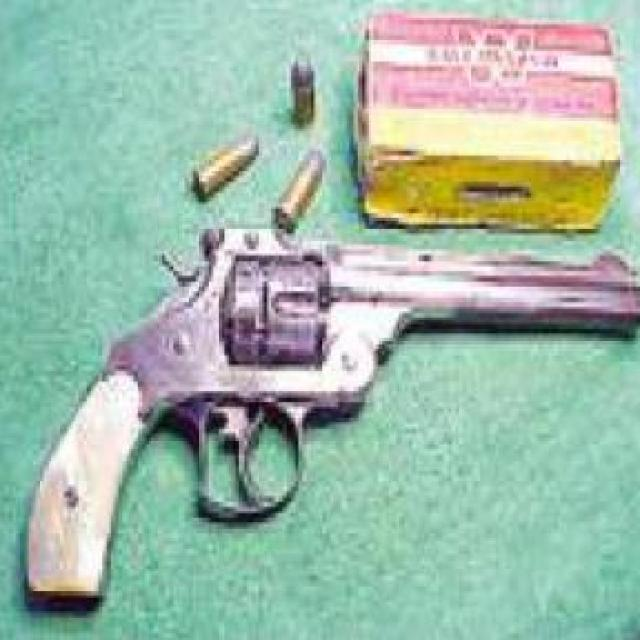pistol: (22, 229, 640, 607)
